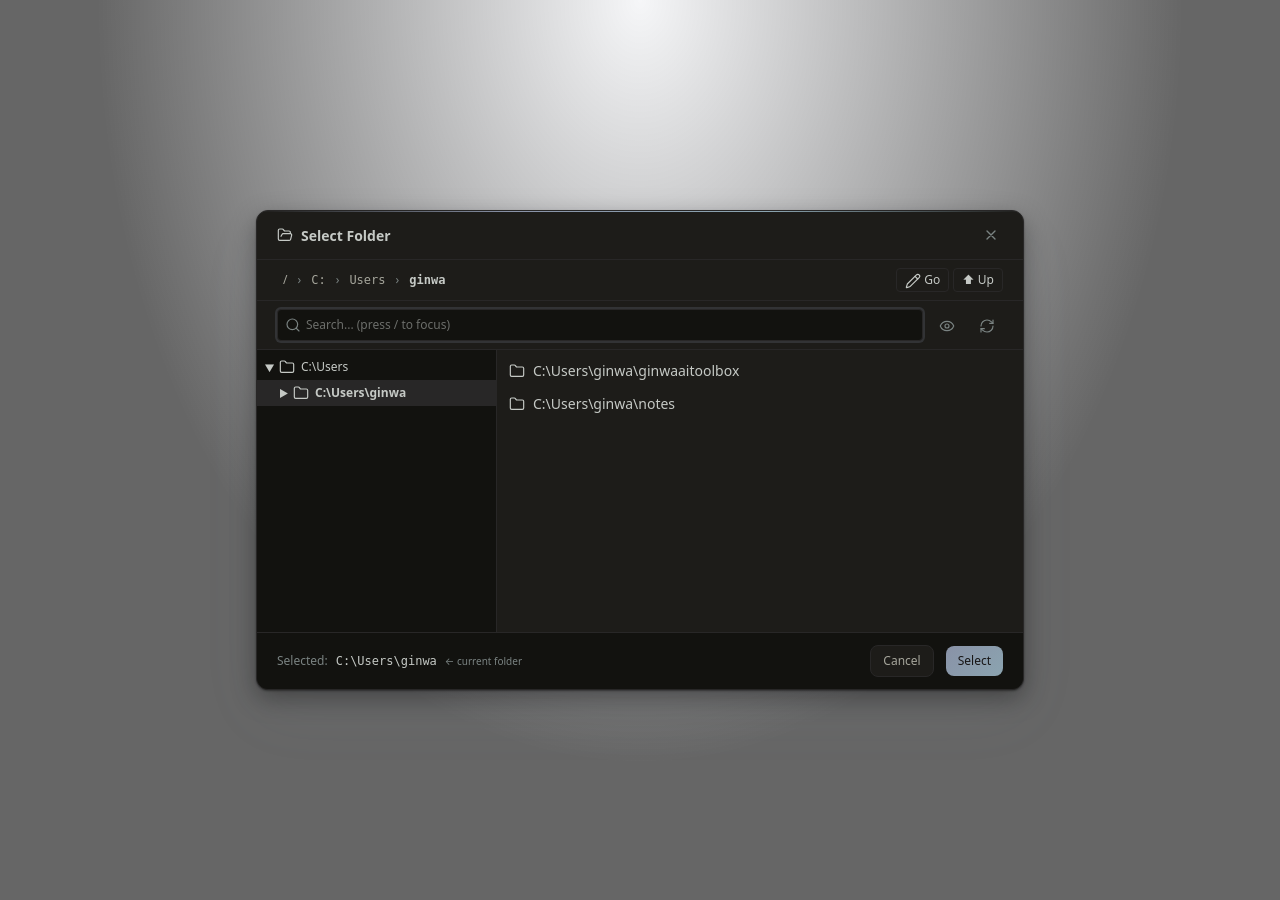
Scenario: FilePickerDialog — Windows paths (drive letters) › a bare relative word resolves against a Windows base
Click the button with test id "file-picker-path-edit" at (923, 280), box [896,268,949,292]
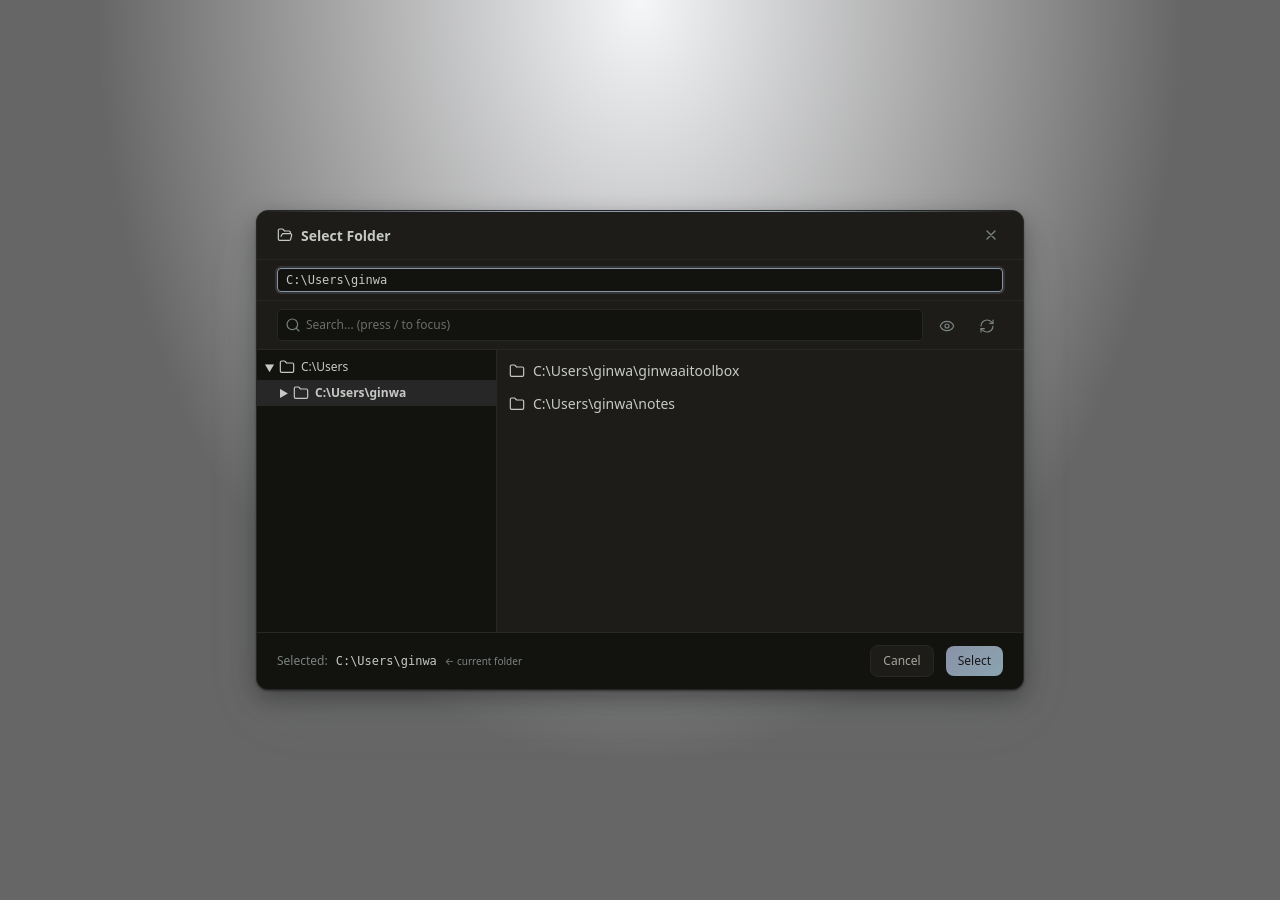
Replace the text in the field with test id "file-picker-path-input" with "notes" at (640, 280), box [277,268,1003,292]
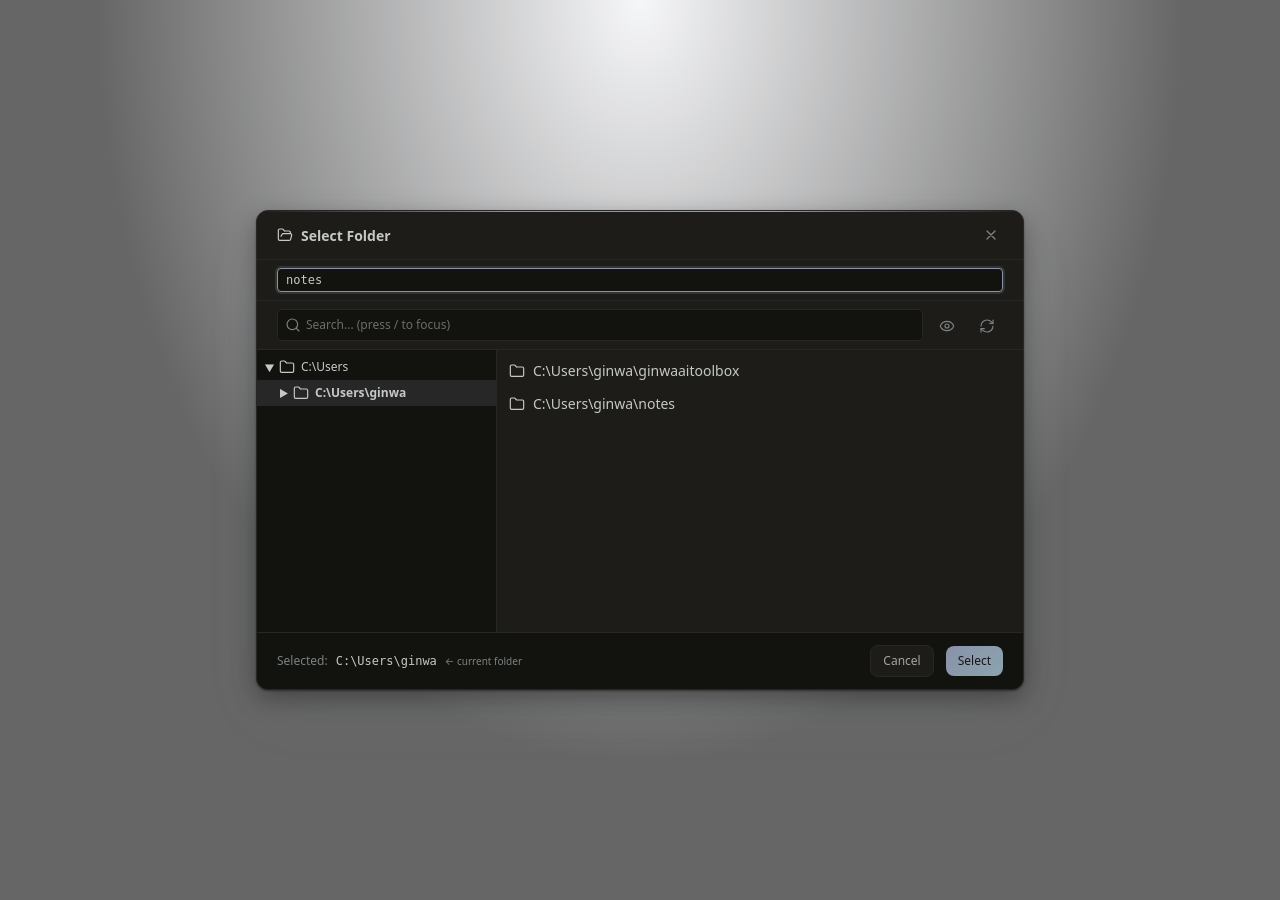
Press Enter in the field with test id "file-picker-path-input", box [277,268,1003,292]
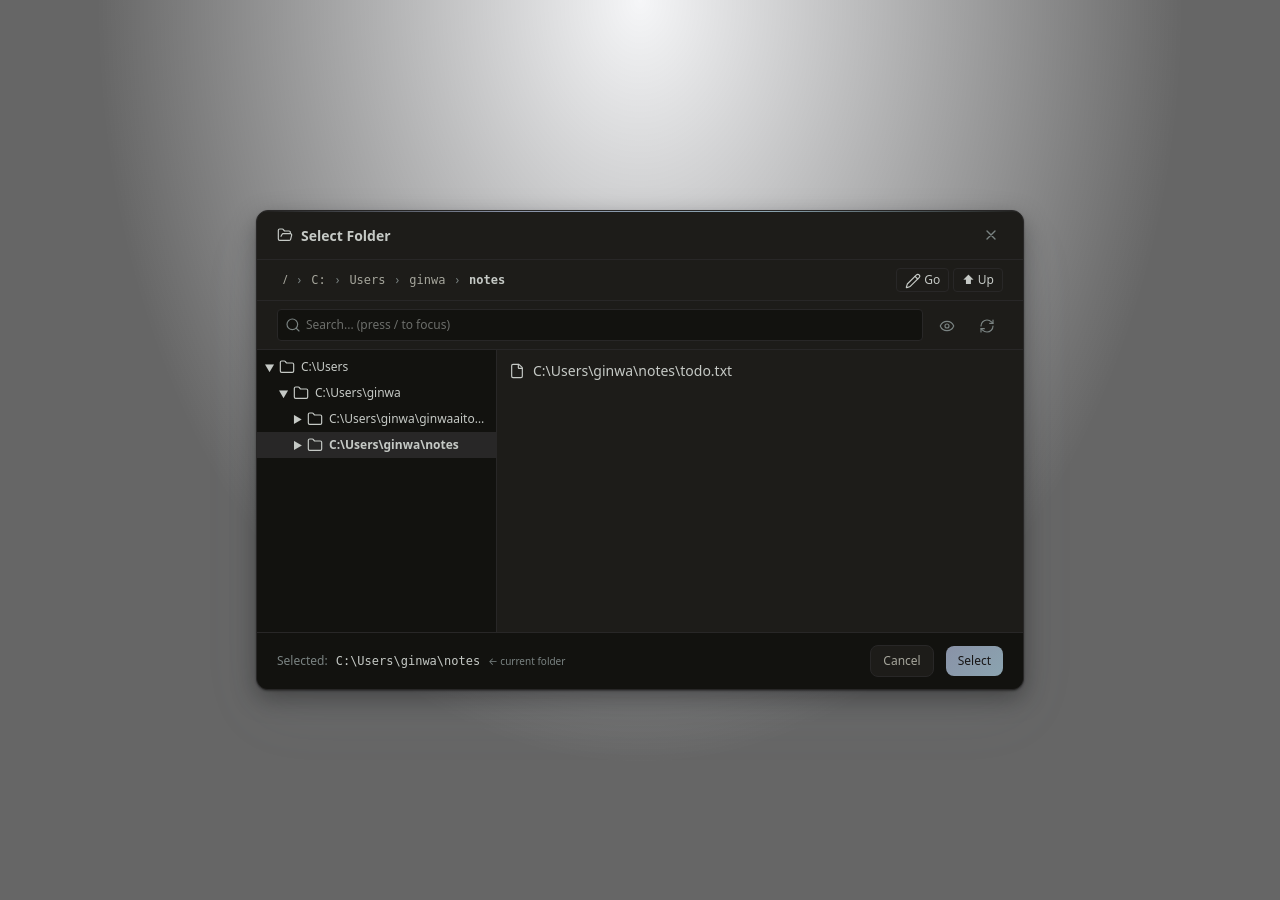
Result: the 1st text "C:\\Users\\ginwa\\notes" reads "C:\\Users\\ginwa\\notes" at [329,436,459,453]
